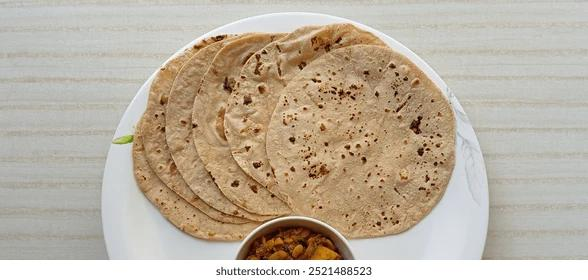roti phulka: (131, 22, 456, 217)
